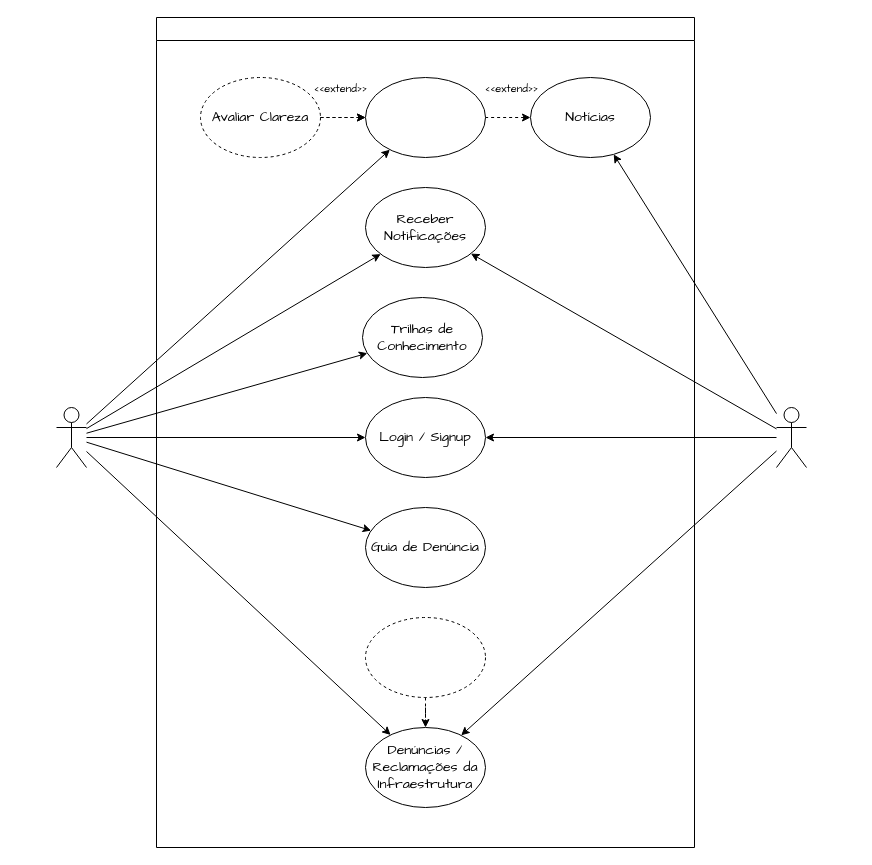
Some shapes in this 872 by 865 pixel diagram are drawn without their labels. The centre of each missing label's shape, as x and y in pixels:
"Adiministrador / Órgão" belongs at (x=791, y=437).
"Feed Personalizado" belongs at (x=425, y=117).
"Filtrar Relatos" belongs at (x=425, y=657).
"Usuário Autenticado" belongs at (x=71, y=437).
